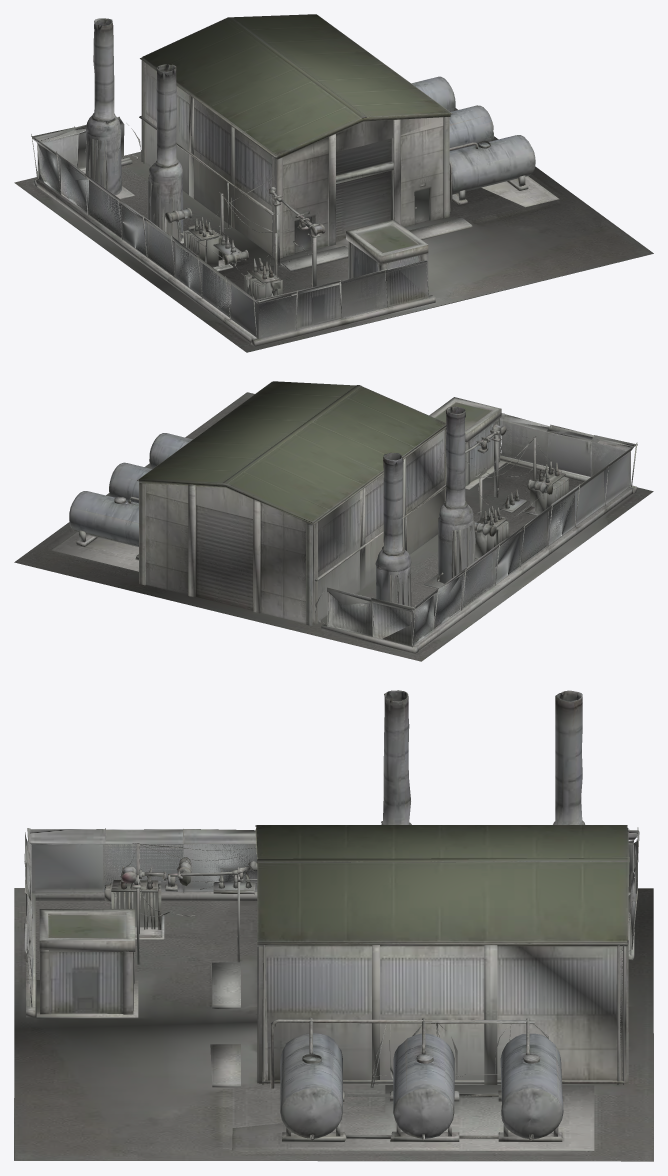
File: power_plant.glb
The picture shows the model from 3 angles, top to bottom: view 1: azimuth 30°, elevation 25°; view 2: azimuth 150°, elevation 25°; view 3: azimuth 270°, elevation 25°; orthographic projection. The views are drawn at different scales.
Parts seen in each view (by area): view 1: hull; view 2: hull; view 3: hull.
Part boxes in pixels (x1,y1,x2,y2): hull: (14, 14, 653, 352); hull: (14, 381, 653, 661); hull: (14, 690, 653, 1161).
Bounding box in the file's own units: 13.44 × 5.37 × 13.3.
Materials: 3 (3 with a texture image).
